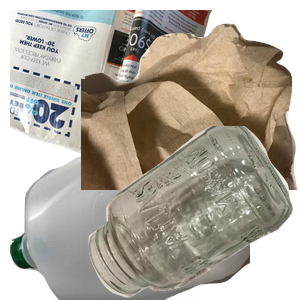glass: (86, 126, 300, 300)
paper: (10, 10, 215, 186)
plastic: (10, 120, 250, 300)
trash: (81, 21, 300, 201)
